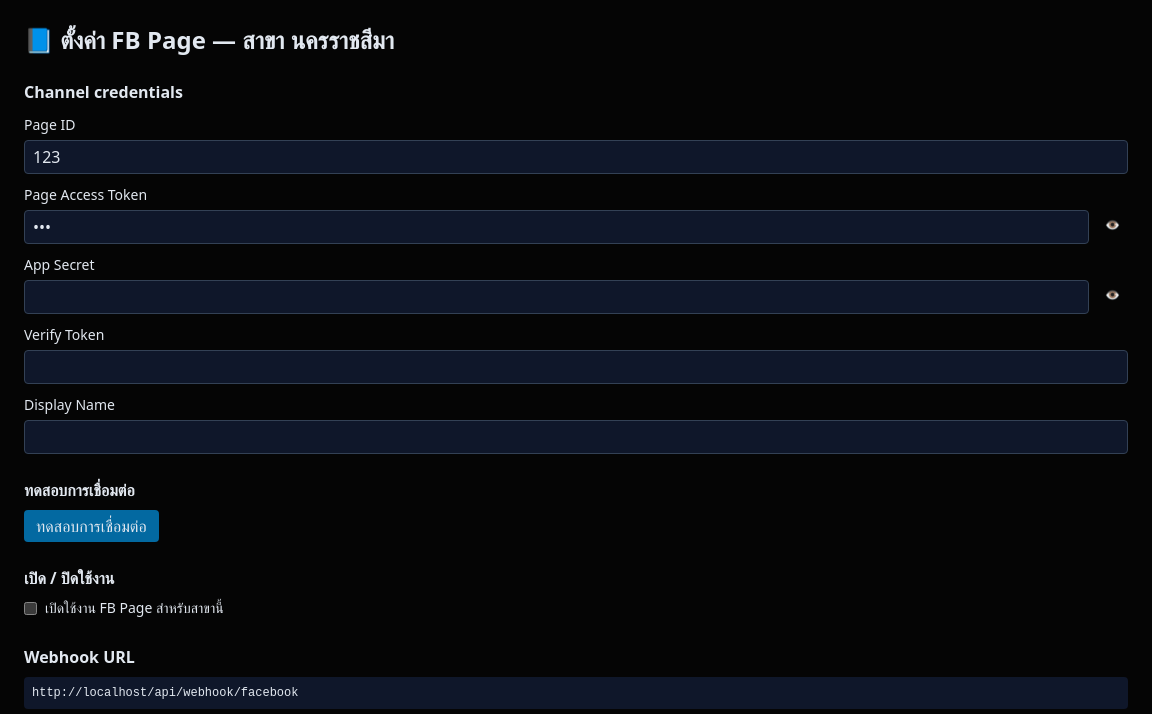
V75 Item 3 — FbSettingsTab UI › FST1.5 — test connection happy path shows pageName
Click the button "ทดสอบการเชื่อมต่อ". click: (91, 526)
box: top-left (24, 510), bottom-right (159, 542)
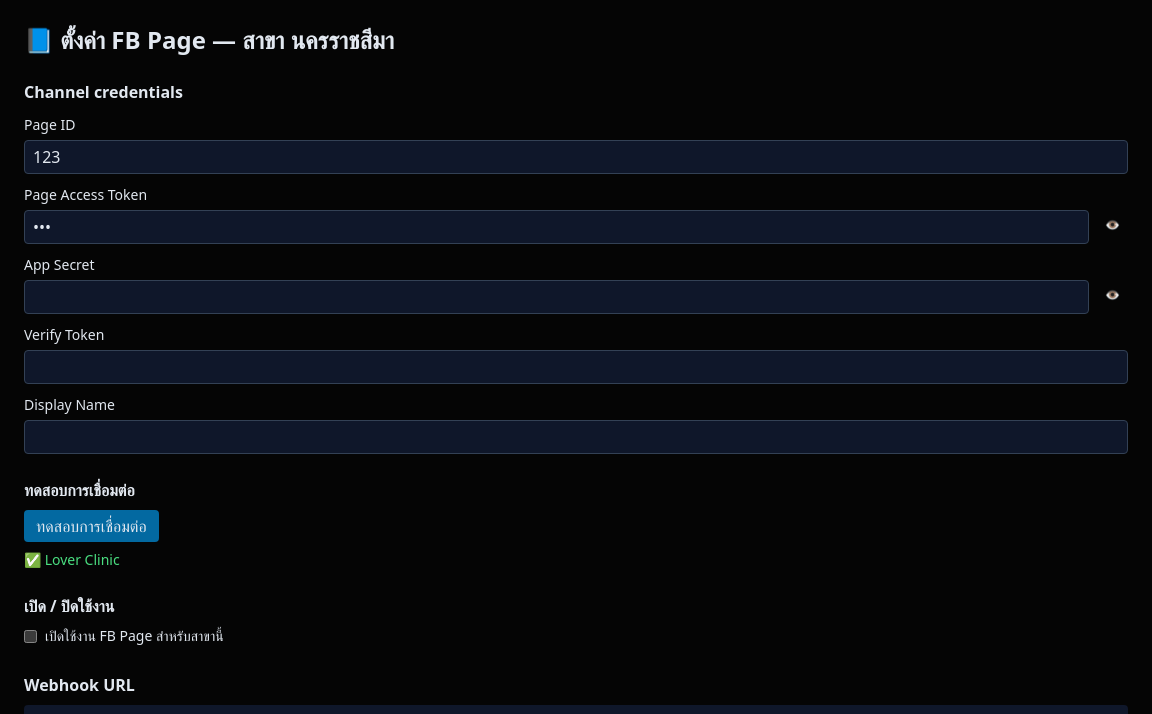
Expected: the text with test id "fb-test-result" shows "Lover Clinic", top-left (24, 550), bottom-right (120, 569)
